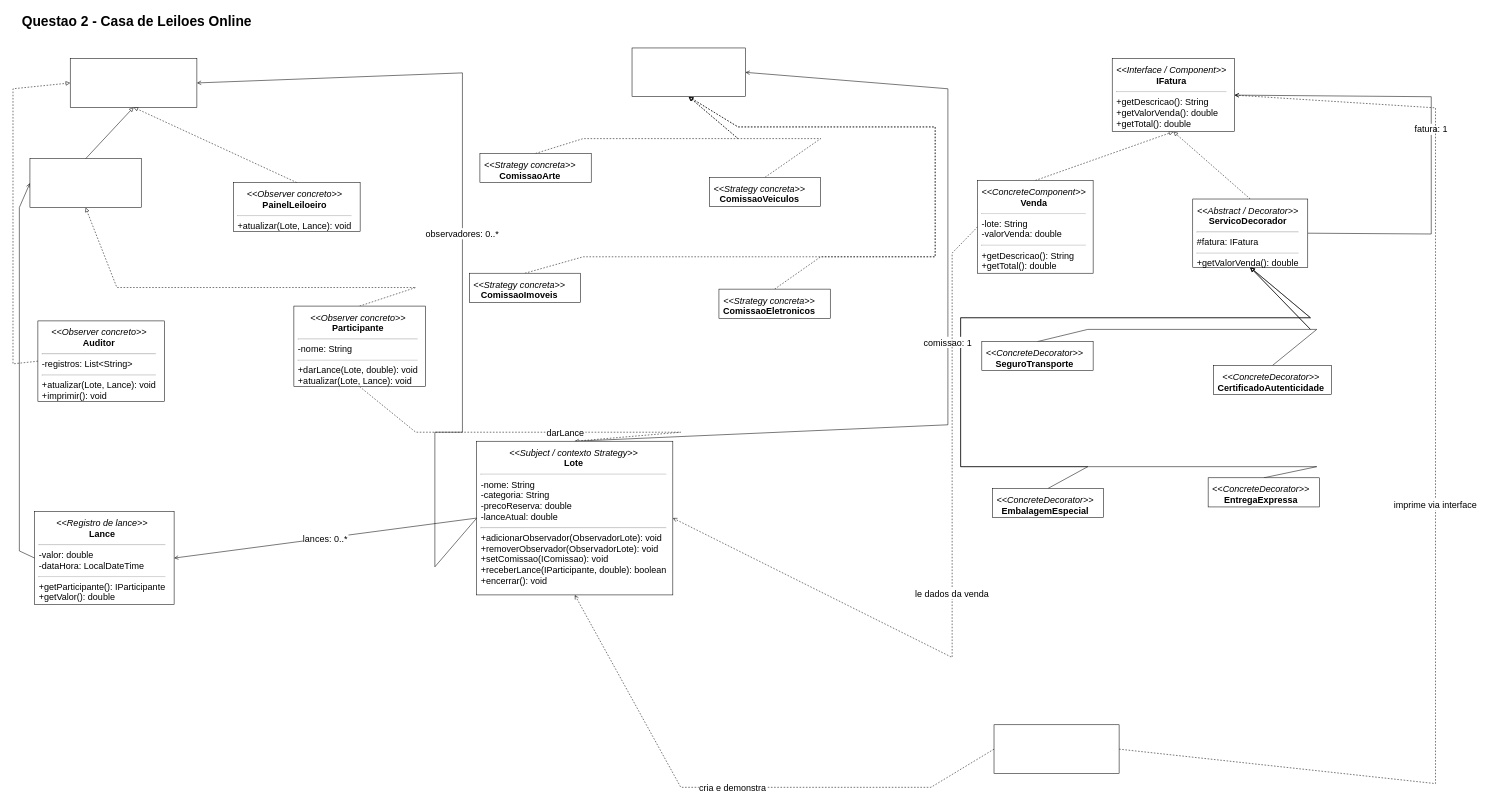
Some shapes in this 1487 by 802 pixel diagram are drawn without their labels. The centre of each missing label's shape, as x and y in pixels:
<<Cliente>> Main +main(String[]): void {static}: pixel 1056 749
<<Interface / Observer>> ObservadorLote +atualizar(Lote, Lance): void: pixel 133 82
<<Interface / Strategy>> IComissao +calcular(double): double: pixel 688 72
<<Interface>> IParticipante +getNome(): String: pixel 85 182
